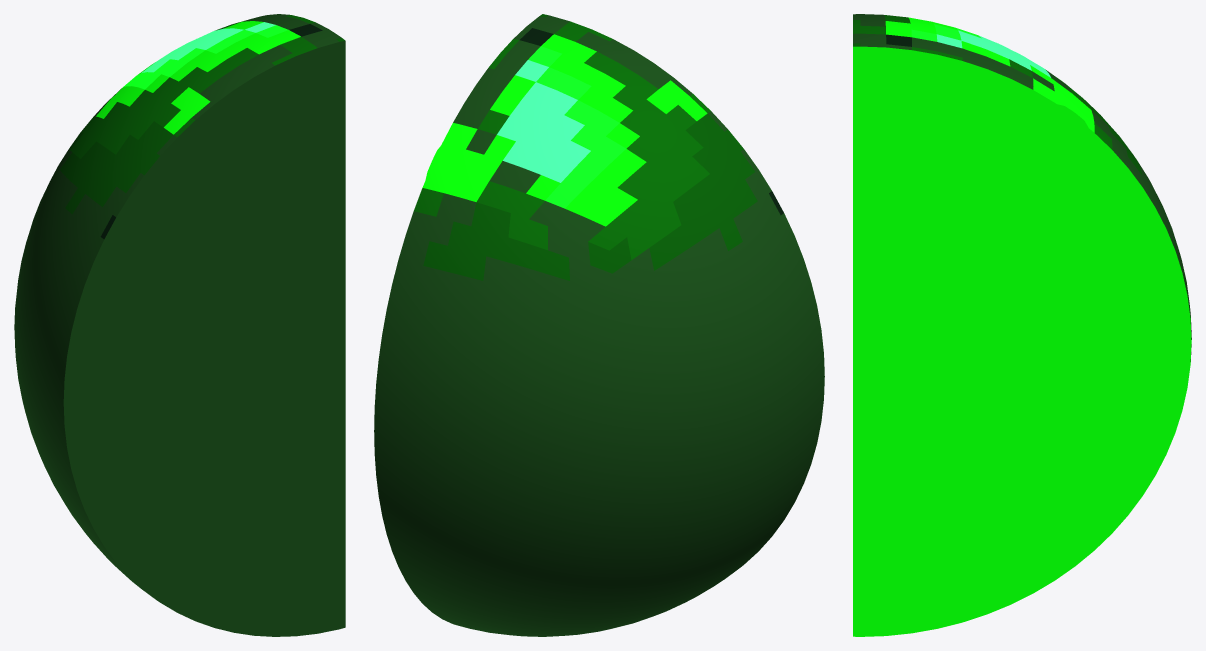
Rendered from newshu-91-f2.glb.
The picture shows the model from 3 angles, left to right: view 1: azimuth 30°, elevation 25°; view 2: azimuth 150°, elevation 25°; view 3: azimuth 270°, elevation 25°; orthographic projection.
Visible parts, largest first — view 1: newshu-91-f2; view 2: newshu-91-f2; view 3: newshu-91-f2.
Part boxes in pixels (bbox=[...]): newshu-91-f2: bbox=[14, 14, 345, 636]; newshu-91-f2: bbox=[374, 14, 824, 636]; newshu-91-f2: bbox=[853, 14, 1191, 636].
Bounding box in the file's own units: 1.92 × 3.83 × 1.99.
